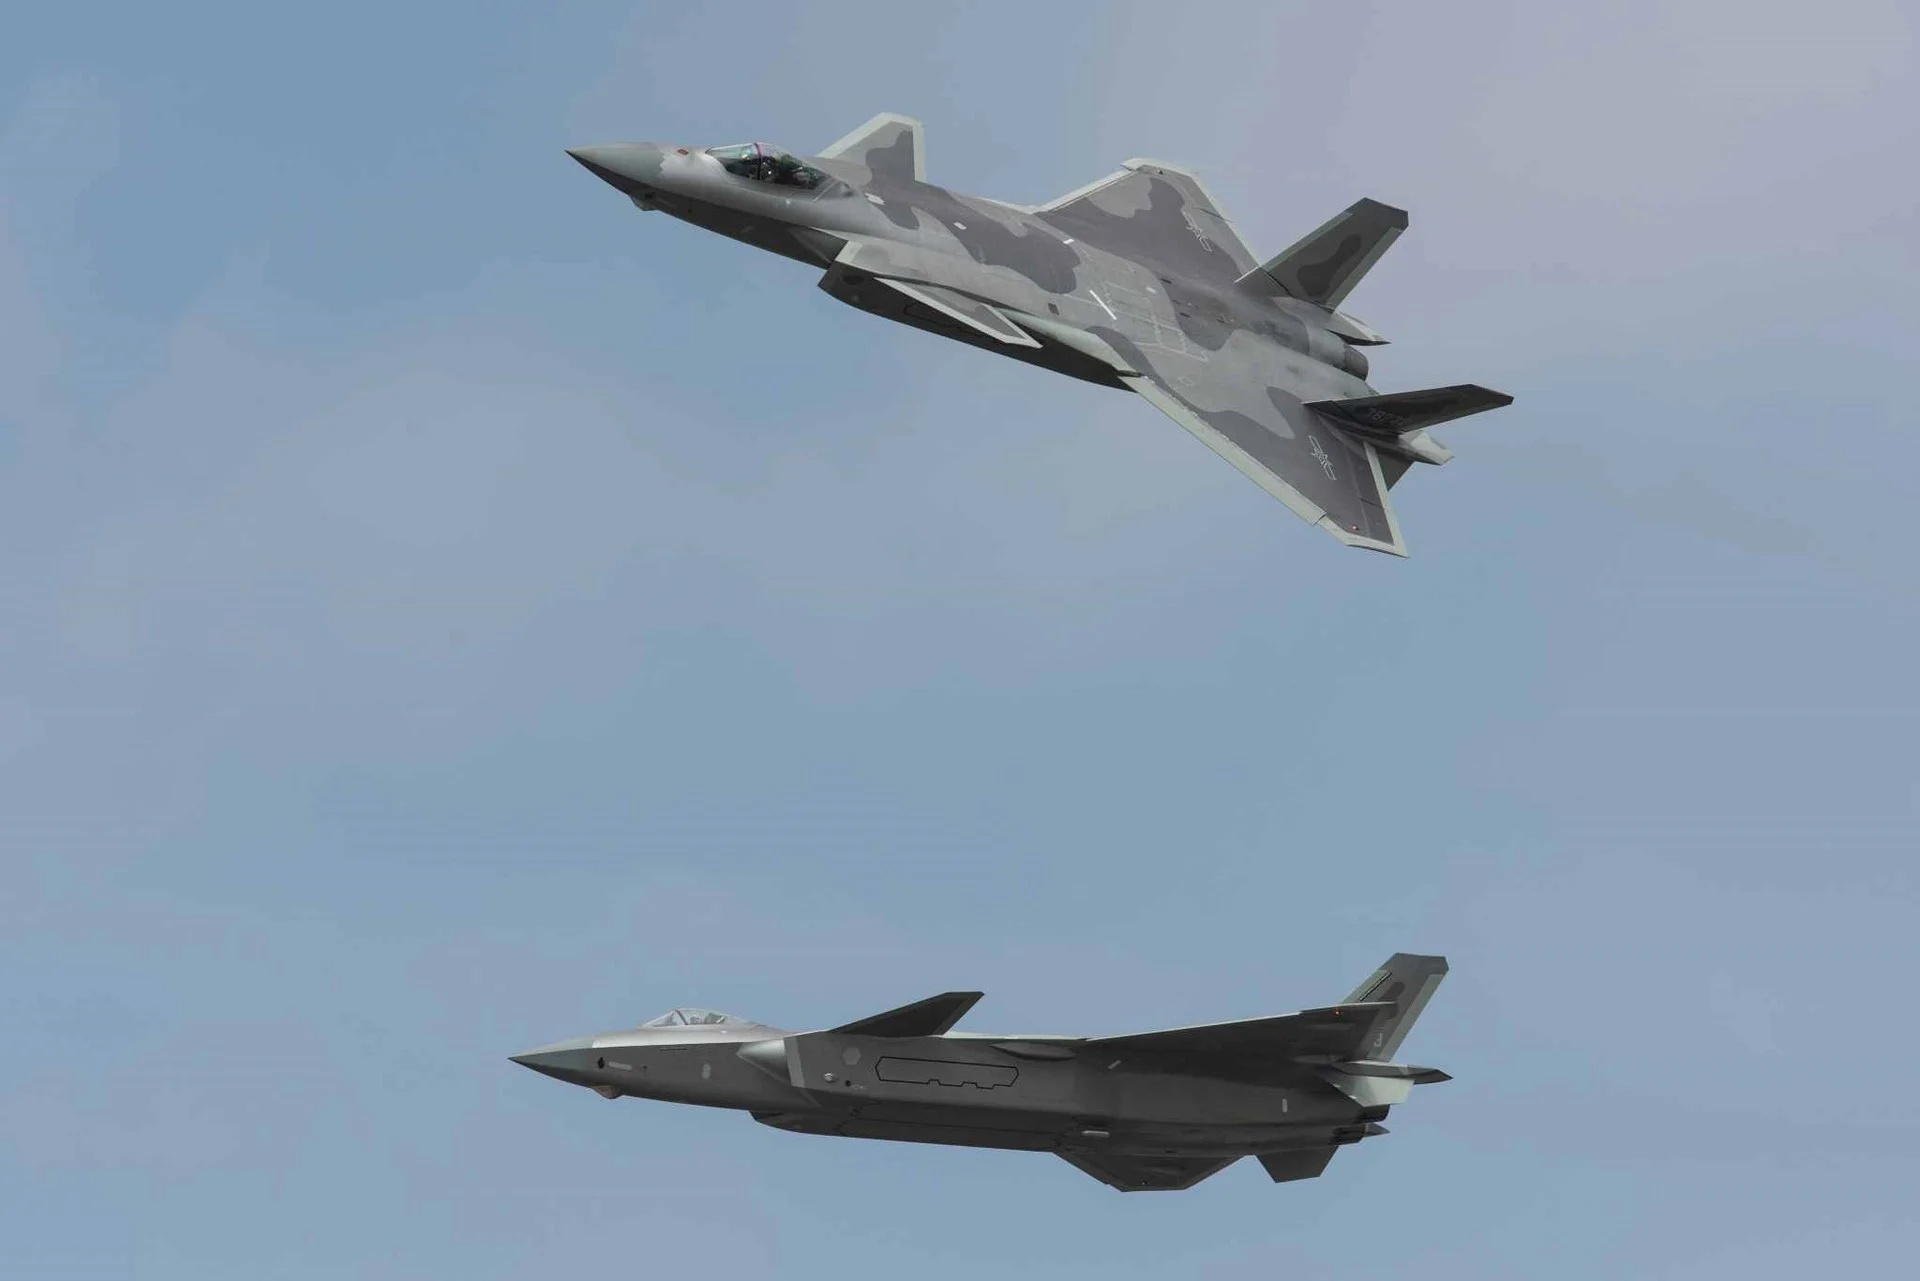J20: (563, 112, 1515, 559), (506, 951, 1454, 1192)
